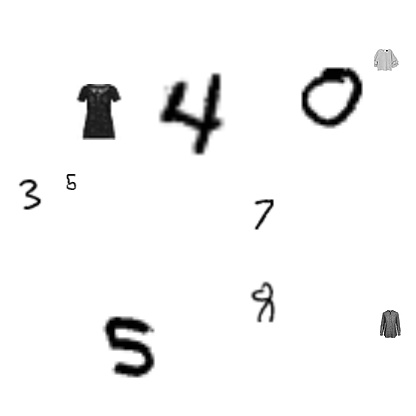0: (290, 50, 374, 134)
3: (9, 172, 51, 214)
4: (136, 54, 248, 166)
5: (85, 302, 169, 386), (59, 171, 81, 193)
7: (242, 189, 284, 231)
8: (237, 272, 293, 328)
Shirt: (376, 310, 404, 338), (371, 46, 399, 74)
T-shirt/top: (71, 84, 127, 140)
